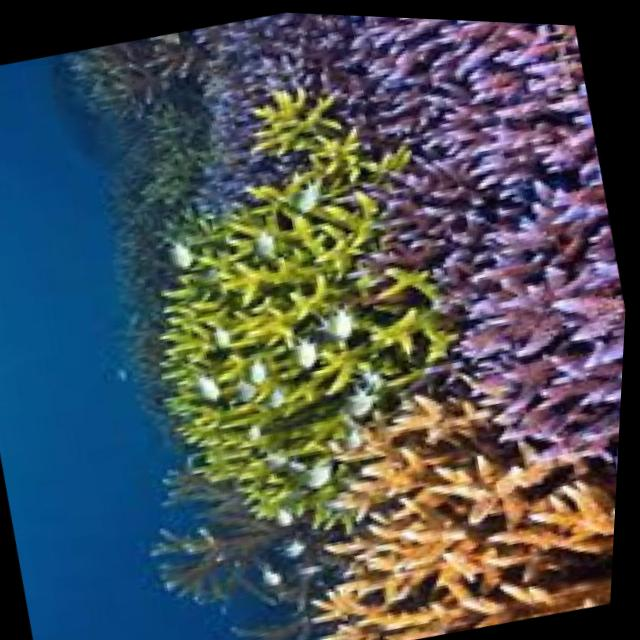Healthy Coral: (287, 11, 640, 484), (109, 126, 472, 523), (264, 337, 627, 640)
